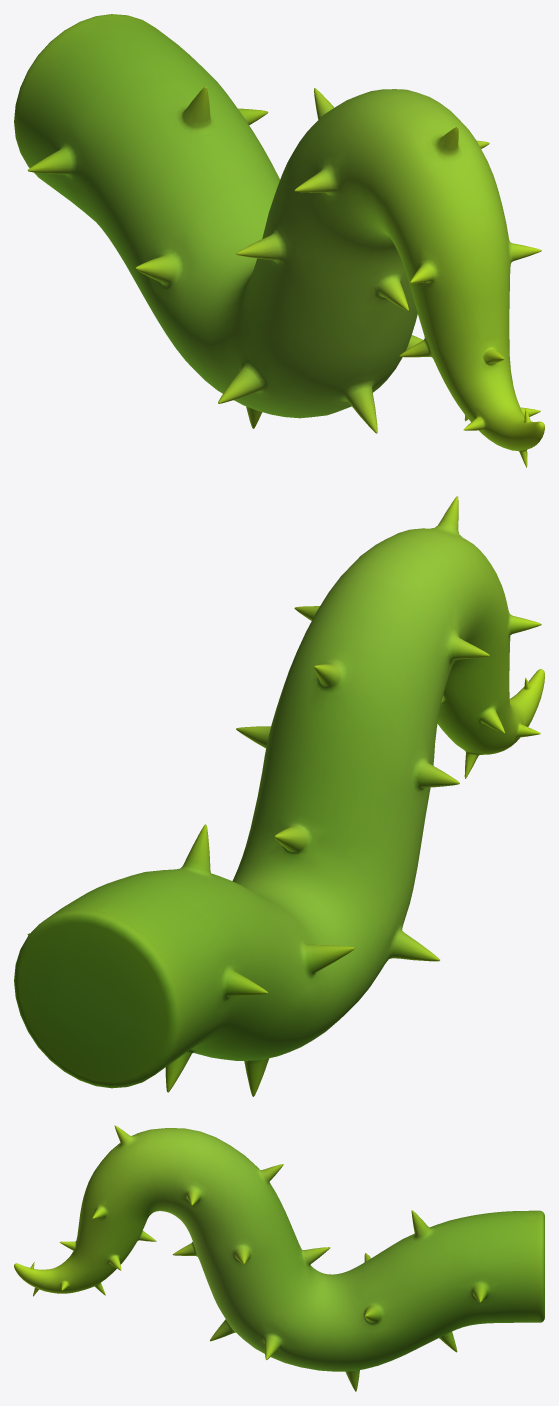
The model's file is spiked_vine.fbx.
3 renders of one model, top to bottom at view 1: azimuth 30°, elevation 25°; view 2: azimuth 150°, elevation 25°; view 3: azimuth 270°, elevation 25°, orthographic. The views are drawn at different scales.
Visible parts, largest first — view 1: spiked_vine; view 2: spiked_vine; view 3: spiked_vine.
Part boxes in pixels (left/top/right/bottom): spiked_vine: left=14, top=14, right=544, bottom=467; spiked_vine: left=14, top=496, right=544, bottom=1096; spiked_vine: left=14, top=1125, right=544, bottom=1391.
Bounding box in the file's own units: 211 × 379 × 684.
1 material, 1 textured.
